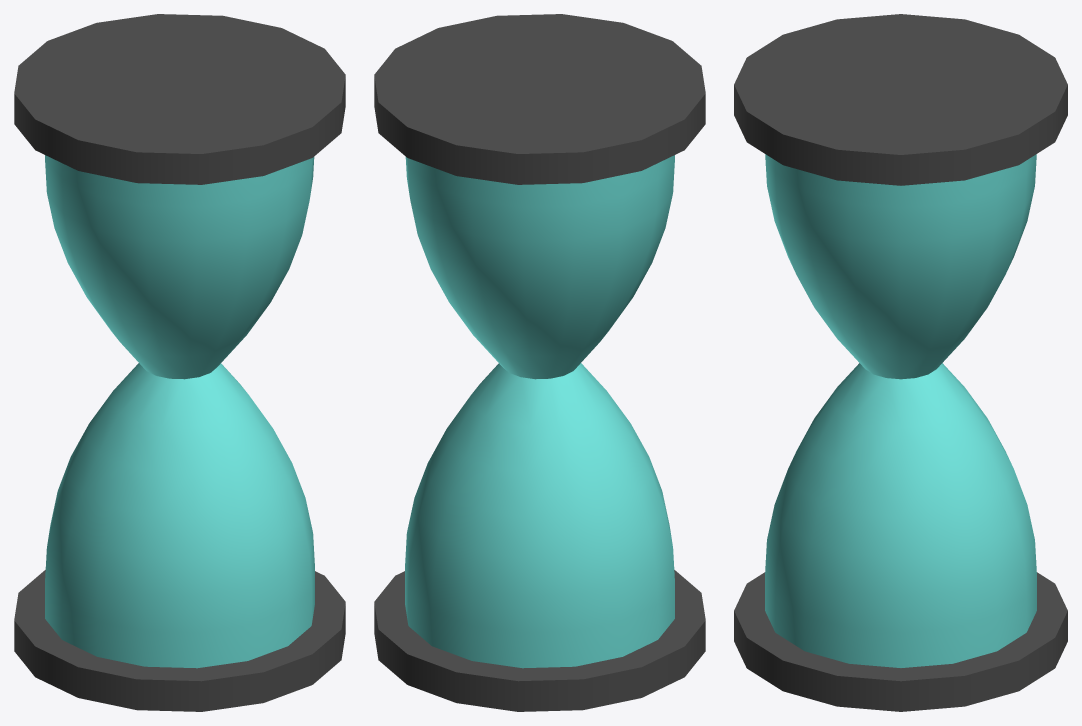
Rendered from klepsydra.fbx.
3 renders of one model, left to right at view 1: azimuth 30°, elevation 25°; view 2: azimuth 150°, elevation 25°; view 3: azimuth 270°, elevation 25°, orthographic.
Parts seen in each view (by area): view 1: glowny; view 2: glowny; view 3: glowny.
Boxes of the visible parts, x1=… form: glowny: x1=14, y1=14, x2=345, y2=711; glowny: x1=374, y1=14, x2=705, y2=711; glowny: x1=734, y1=14, x2=1067, y2=711.
Size of the model in its own units: 986 by 1814 by 986.
